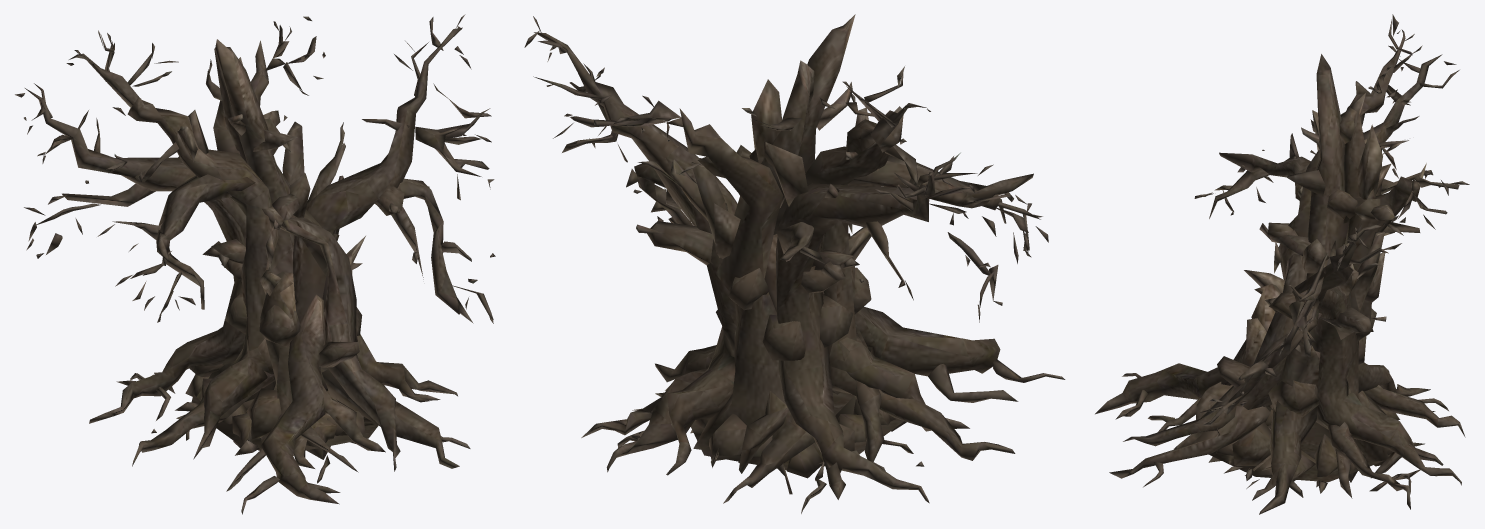
Rendered from h_tree_dead_large.glb.
3 renders of one model, left to right at view 1: azimuth 30°, elevation 25°; view 2: azimuth 150°, elevation 25°; view 3: azimuth 270°, elevation 25°, orthographic. The views are drawn at different scales.
Visible parts, largest first — view 1: h_tree_dead_large; view 2: h_tree_dead_large; view 3: h_tree_dead_large.
Boxes of the visible parts, x1,y1,x2,y2 form: h_tree_dead_large: [15, 14, 495, 514]; h_tree_dead_large: [524, 14, 1065, 513]; h_tree_dead_large: [1095, 14, 1469, 514].
Size of the model in its own units: 5.74 by 5.07 by 4.65.
Materials: 1 (1 with a texture image).
